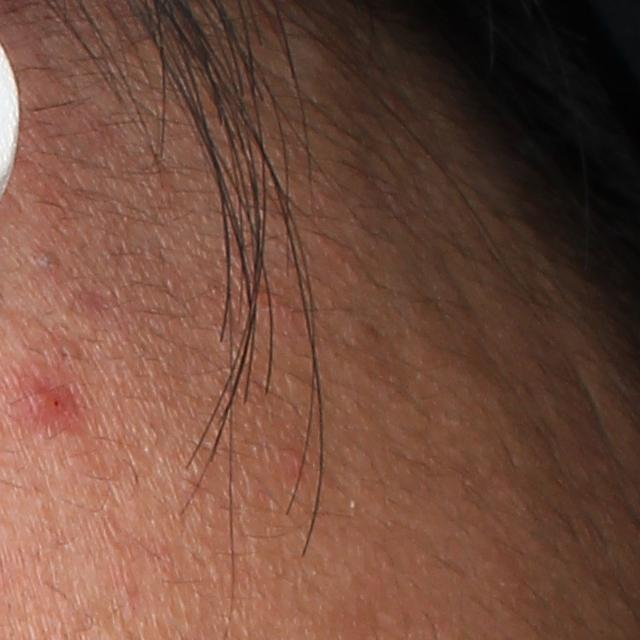papule: (16, 370, 87, 437)
